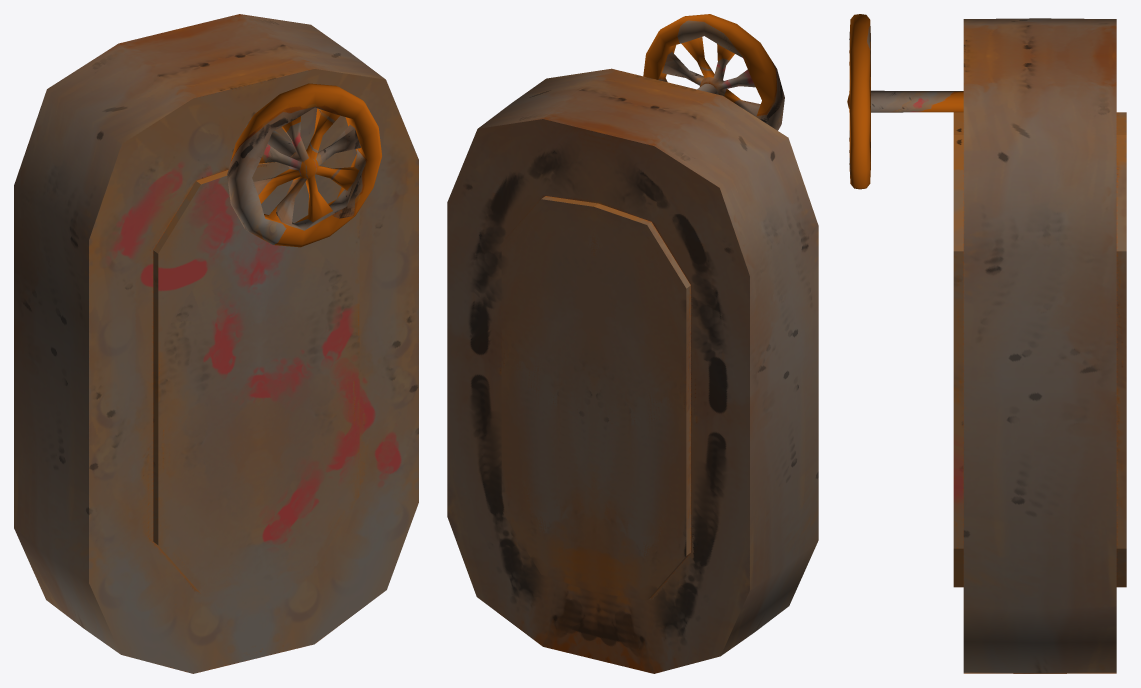
Rendered from Corrected_Door.fbx.
3 views of the same model, side by side, from view 1: azimuth 30°, elevation 25°; view 2: azimuth 150°, elevation 25°; view 3: azimuth 270°, elevation 25° (orthographic). The views are drawn at different scales.
Parts seen in each view (by area): view 1: Door_Frame, Door_Frame.001; view 2: Door_Frame, Door_Frame.001; view 3: Door_Frame, Door_Frame.001.
Part boxes in pixels (bbox=[...]): Door_Frame: bbox=[14, 14, 418, 673]; Door_Frame.001: bbox=[227, 83, 381, 247]; Door_Frame: bbox=[447, 68, 818, 673]; Door_Frame.001: bbox=[643, 14, 784, 130]; Door_Frame: bbox=[953, 18, 1126, 673]; Door_Frame.001: bbox=[847, 14, 963, 189].
Size of the model in its own units: 391 by 691 by 281.
1 material, 1 textured.
